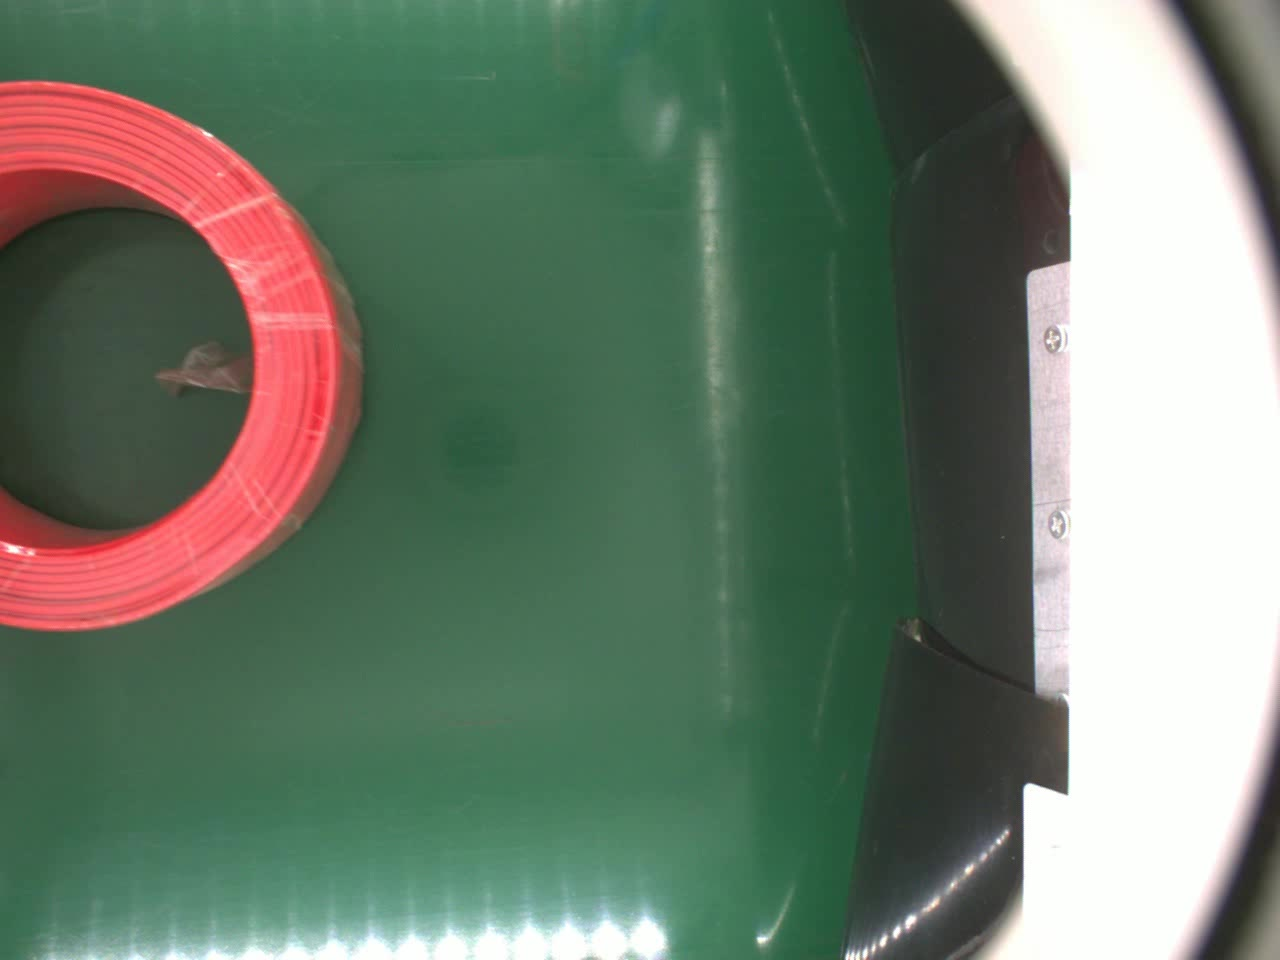red: (0, 78, 364, 639)
